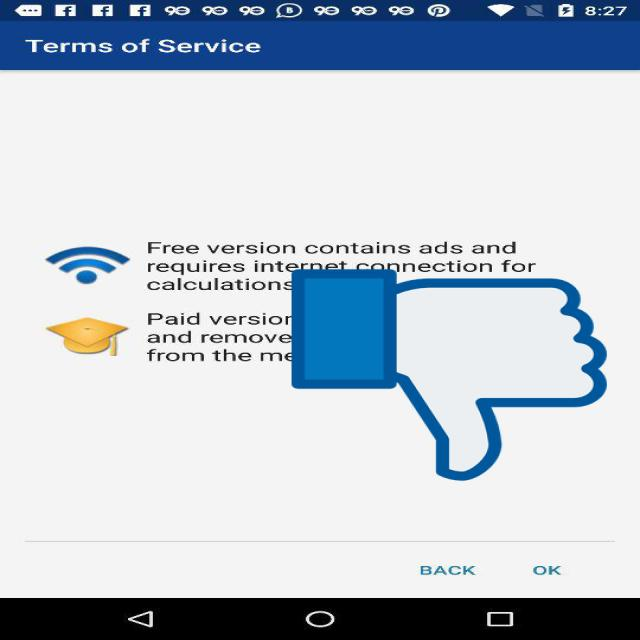obstruction: (291, 265, 607, 485)
